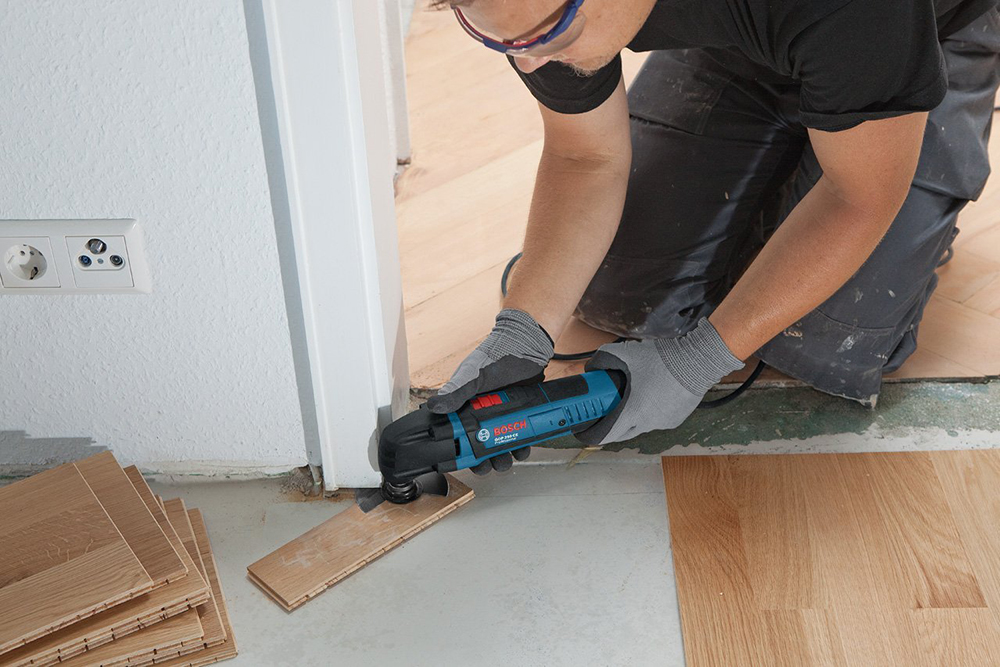Bosch: (491, 415, 531, 441)
